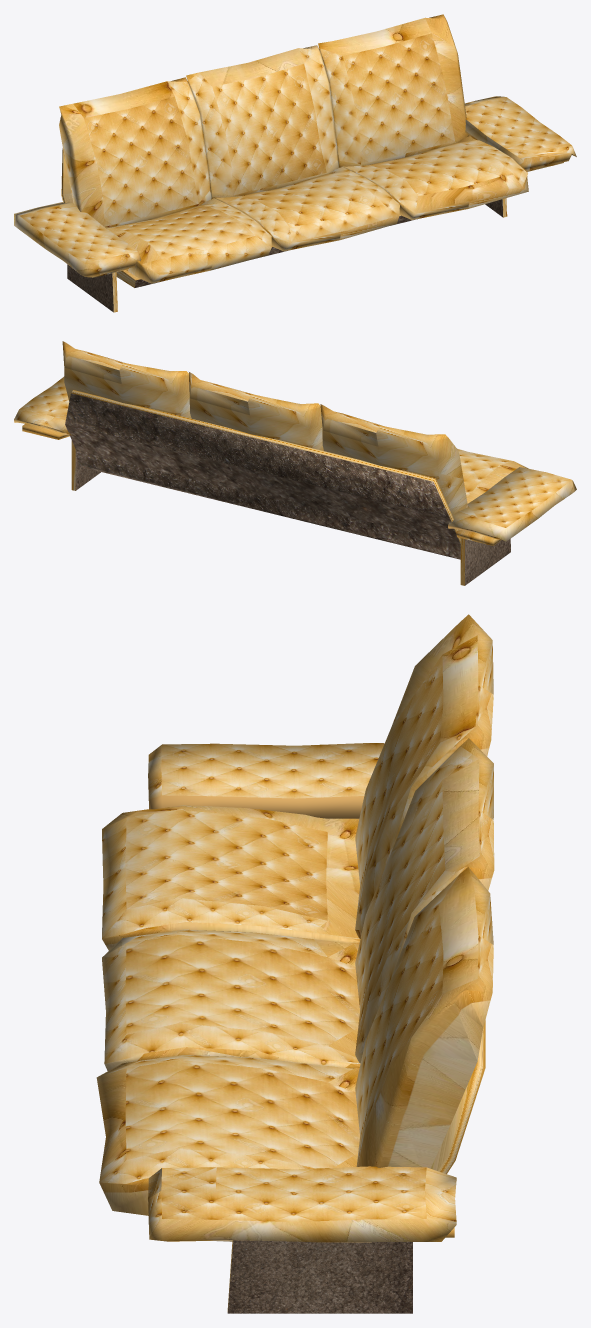
Rendered from sofa5.glb.
3 renders of one model, top to bottom at view 1: azimuth 30°, elevation 25°; view 2: azimuth 150°, elevation 25°; view 3: azimuth 270°, elevation 25°, orthographic. The views are drawn at different scales.
Parts seen in each view (by area): view 1: sofa3; view 2: sofa3; view 3: sofa3.
Boxes of the visible parts, x1,y1,x2,y2 form: sofa3: (14,14,576,312); sofa3: (14,341,576,585); sofa3: (96,614,494,1313).
Size of the model in its own units: 2.16 by 0.6747 by 0.7572.
Materials: 2 (2 with a texture image).
